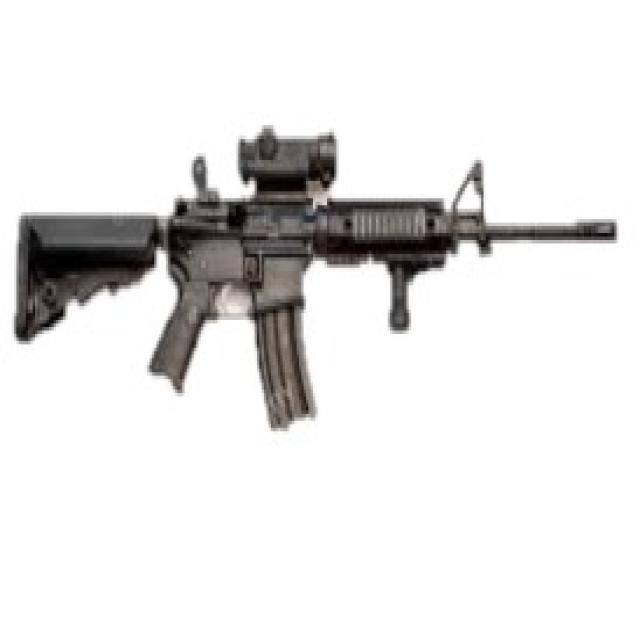rifle: (8, 137, 623, 439)
